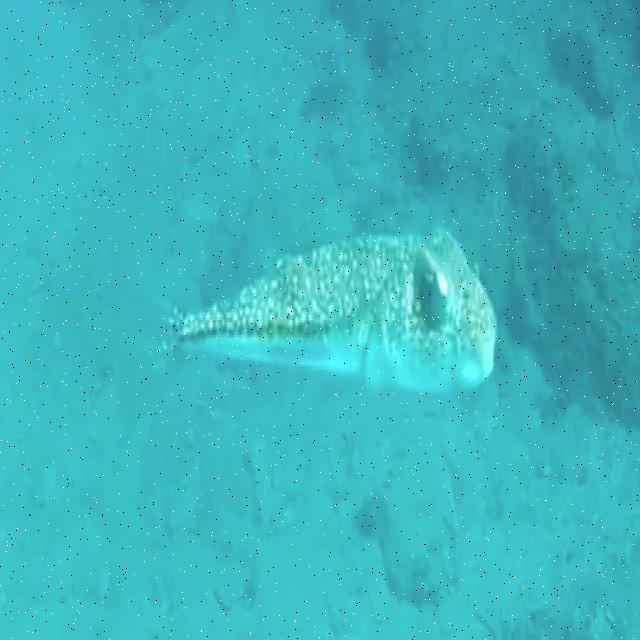Balik: (173, 229, 496, 391)
